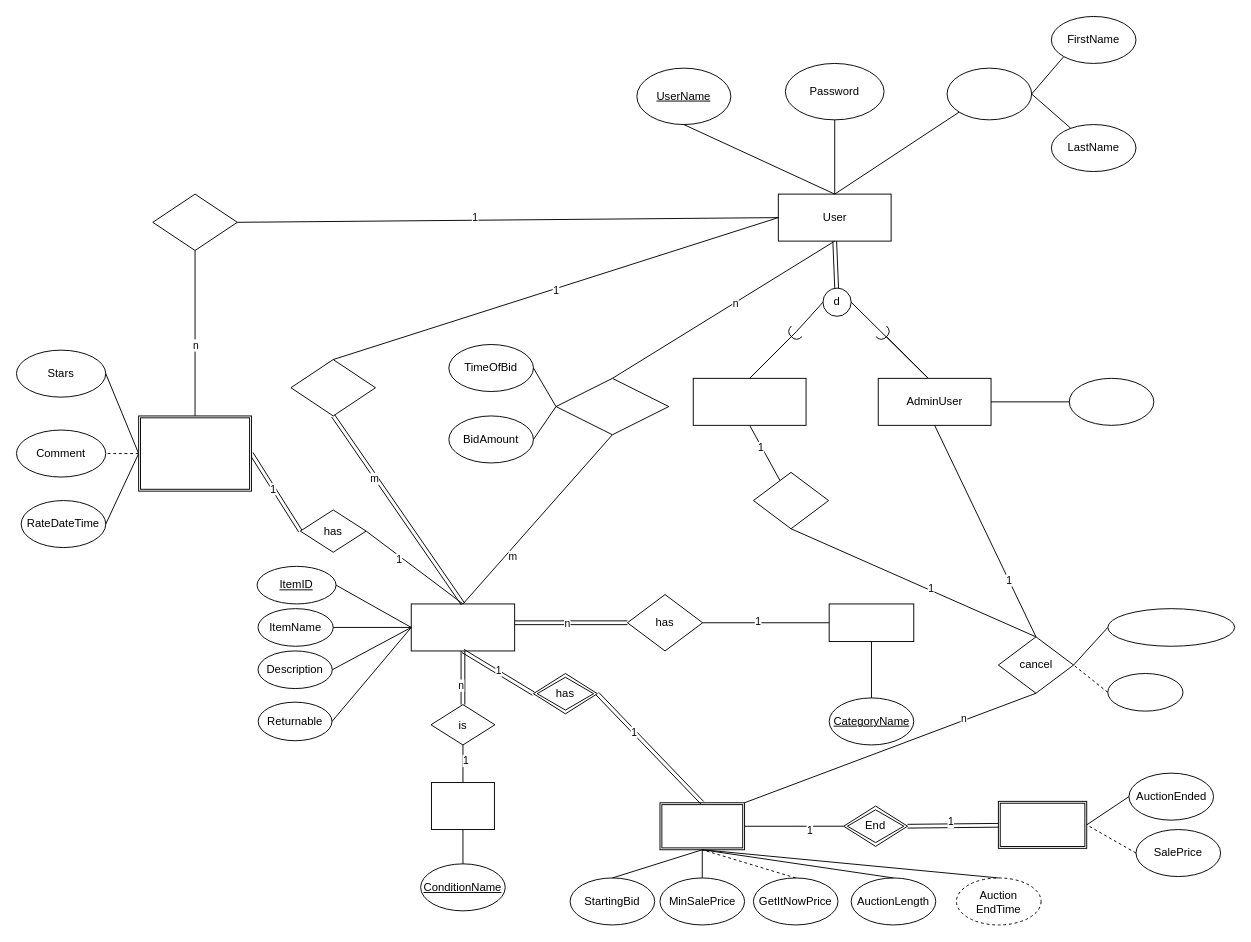
This 1251x942 diagram has some shape labels left out. The box of each missing label's shape, as (x1, y1, x2, y2) in pixels:
Auction: (659, 802, 745, 850)
AuctionResult: (997, 800, 1087, 848)
bid: (555, 377, 669, 435)
cancel request: (752, 471, 829, 529)
CancellationDateTime: (1107, 608, 1235, 646)
Category: (828, 603, 914, 642)
Condition: (431, 782, 494, 830)
Item: (410, 603, 515, 651)
ItemRating: (138, 415, 251, 491)
list: (290, 359, 376, 416)
Name: (946, 67, 1032, 120)
Position: (1068, 377, 1154, 425)
rates: (152, 193, 237, 251)
Reason: (1107, 673, 1183, 711)
RegularUser: (692, 377, 806, 425)
